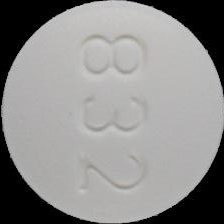53808-0873: (0, 0, 224, 224)
